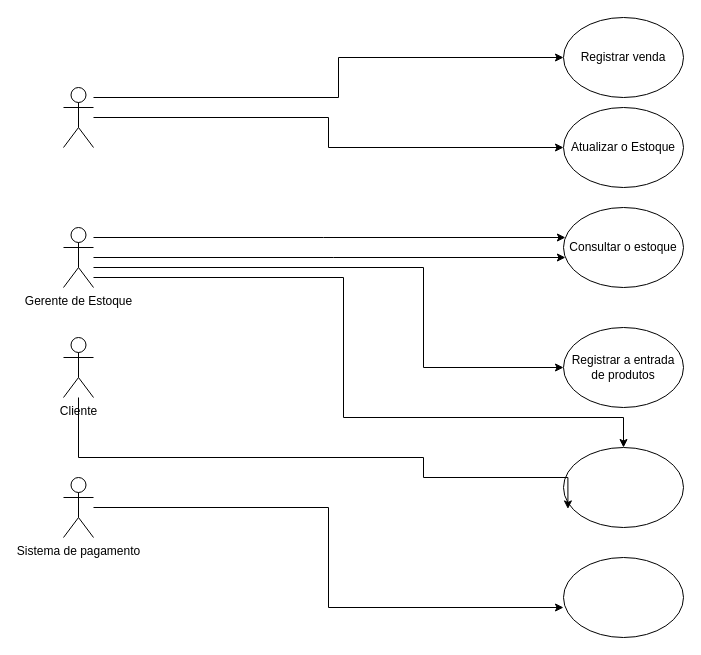
Image size: 701x655. Some labels were removed from this diagram. The centre of each missing label's shape, as x and y in pixels:
Funcionário de vendas: pixel 78 117
Gerar Relatórios: pixel 623 487
Processar pagamentos: pixel 623 597
